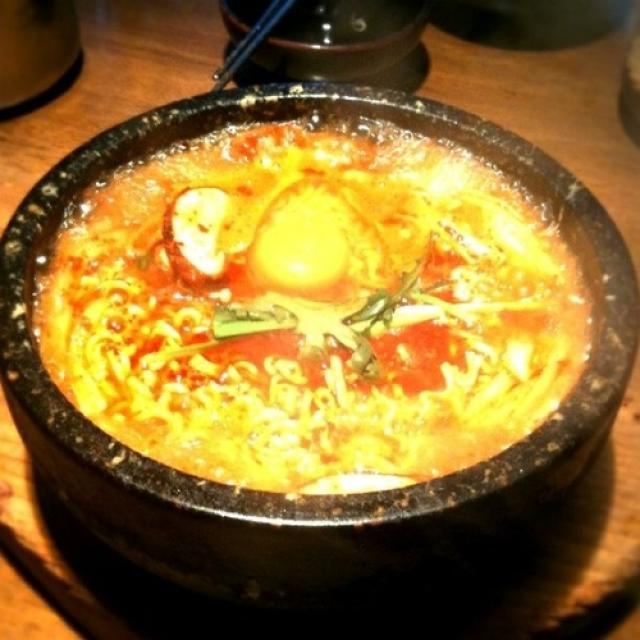汤锅炖物: (4, 58, 631, 592)
